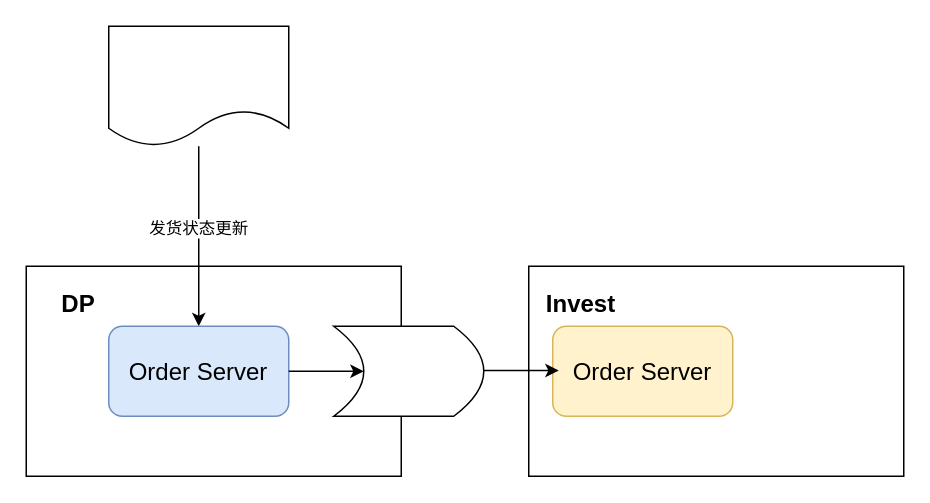
This 930x503 diagram has some shape labels left out. The centre of each missing label's shape, as x and y in pixels:
HUB回调: pixel 198 85
OrderBus: pixel 408 370
